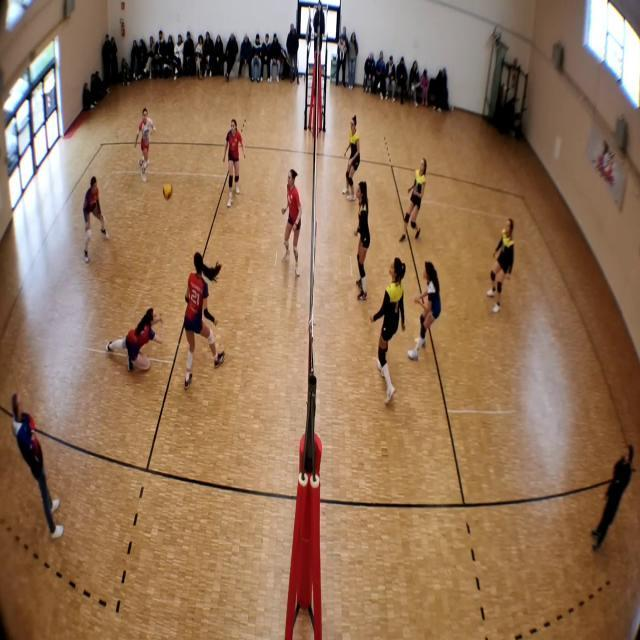volleyball: (162, 183, 174, 200)
